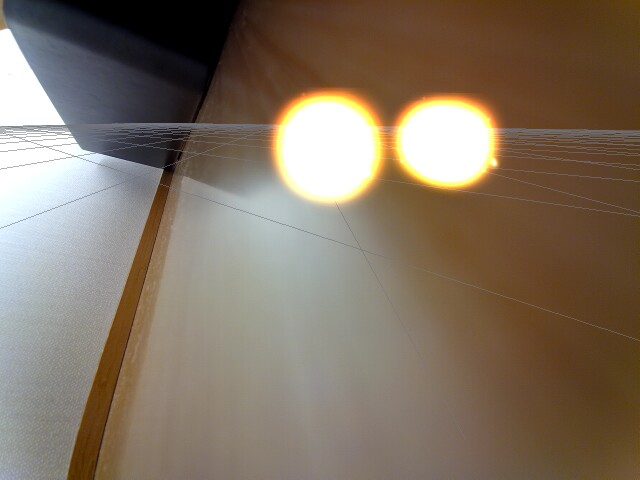firebig: (267, 88, 384, 208)
